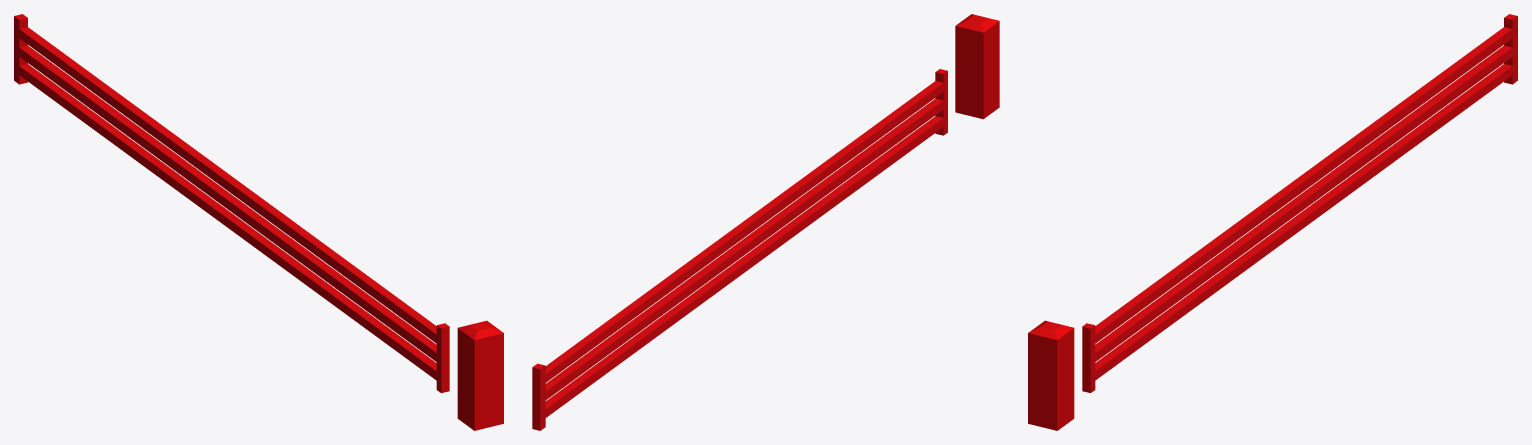
Rendered from Fence and post.fbx.
The picture shows the model from 3 angles, left to right: view 1: azimuth 30°, elevation 25°; view 2: azimuth 150°, elevation 25°; view 3: azimuth 330°, elevation 25°; orthographic projection. The views are drawn at different scales.
Visible parts, largest first — view 1: Cube.001, Cube.002; view 2: Cube.001, Cube.002; view 3: Cube.001, Cube.002.
Boxes of the visible parts, x1,y1,x2,y2 form: Cube.001: (14, 14, 449, 393); Cube.002: (457, 320, 503, 430); Cube.001: (532, 69, 947, 430); Cube.002: (955, 14, 999, 119); Cube.001: (1082, 14, 1517, 393); Cube.002: (1028, 320, 1074, 430).
Size of the model in its own units: 95.39 by 294 by 2644.
